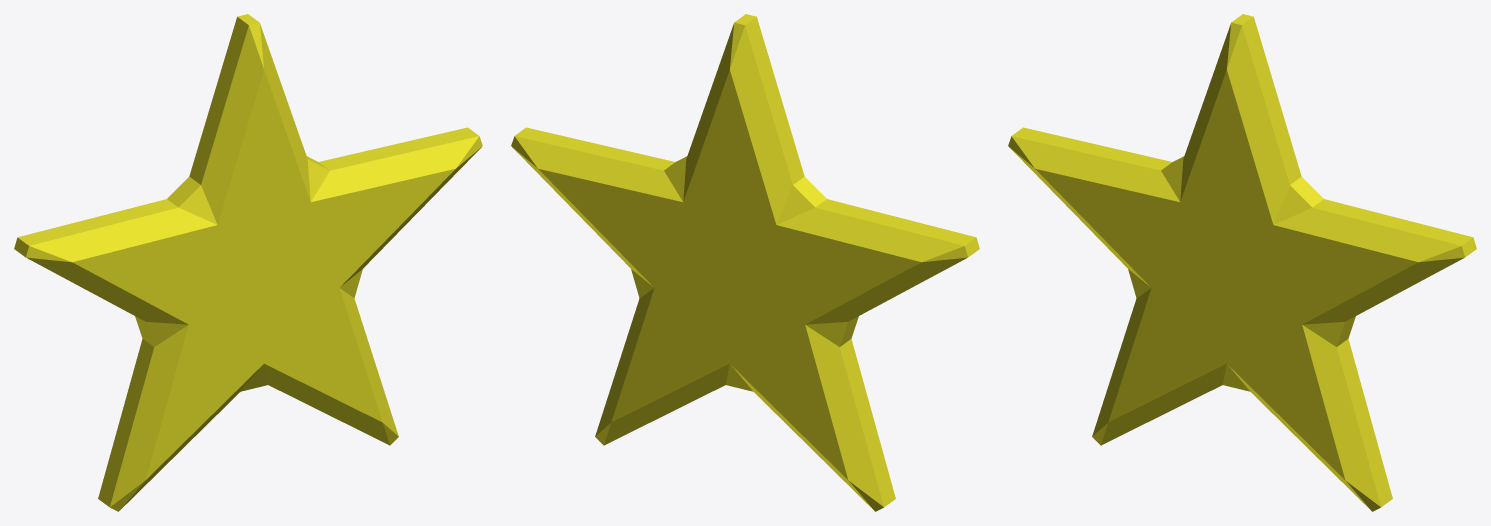
The model's file is star.glb.
The picture shows the model from 3 angles, left to right: view 1: azimuth 30°, elevation 25°; view 2: azimuth 150°, elevation 25°; view 3: azimuth 330°, elevation 25°; orthographic projection.
Visible parts, largest first — view 1: Star; view 2: Star; view 3: Star.
Part boxes in pixels (box(x1,y1,x2,y2)): Star: box(14, 14, 482, 511); Star: box(511, 14, 979, 511); Star: box(1008, 14, 1476, 511).
Bounding box in the file's own units: 1.8 × 1.71 × 0.2131.
